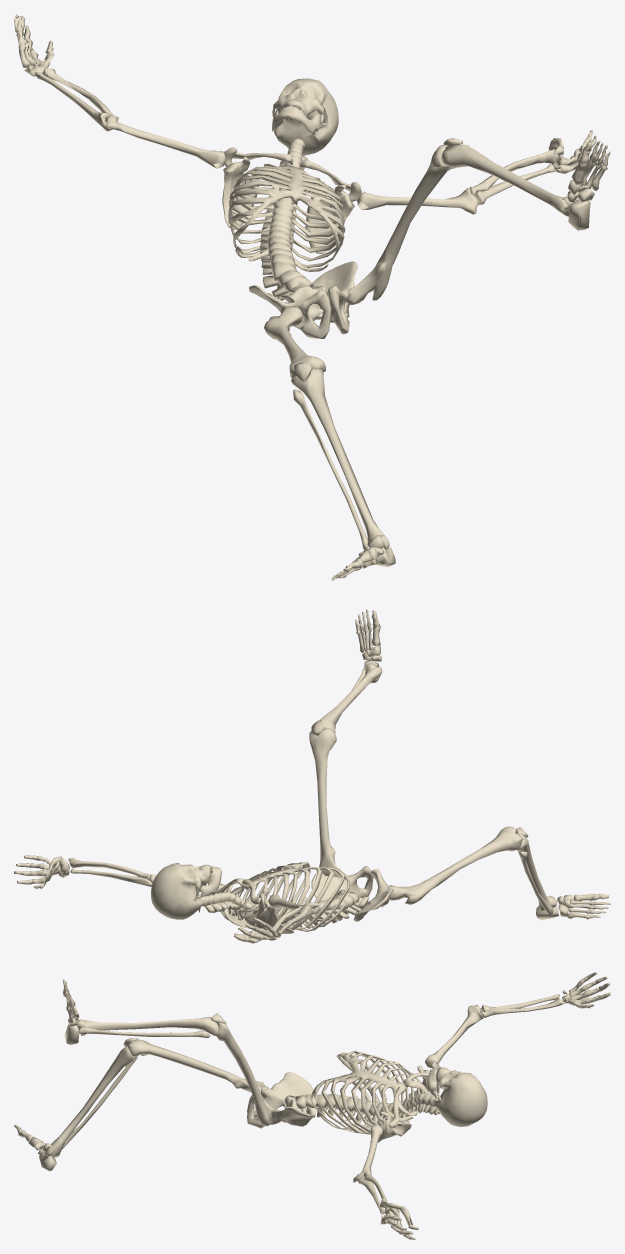
File: skeleton.obj
3 views of the same model, one above another, from view 1: azimuth 30°, elevation 25°; view 2: azimuth 150°, elevation 25°; view 3: azimuth 270°, elevation 25° (orthographic). The views are drawn at different scales.
Visible parts, largest first — view 1: chest:1, rShin:1, hip:1, head:1, lThigh:1, lFoot:1, lShin:1, abdomen:1, rThigh:1, rCollar:1, lCollar:1, lShldr:1 (+7 smaller); view 2: chest:1, head:1, rThigh:1, lThigh:1, hip:1, rFoot:1, lFoot:1, lShin:1, lHand:1, lForeArm:1, rShin:1, rCollar:1 (+4 smaller); view 3: chest:1, head:1, hip:1, lShin:1, rShin:1, rThigh:1, lThigh:1, rHand:1, rForeArm:1, abdomen:1, rShldr:1, lHand:1 (+6 smaller).
Boxes of the visible parts, x1,y1,x2,y2 form: chest:1: (228, 163, 345, 272); rShin:1: (291, 362, 389, 550); hip:1: (249, 261, 357, 338); head:1: (272, 78, 338, 155); lThigh:1: (346, 145, 455, 304); lFoot:1: (562, 140, 610, 230); lShin:1: (441, 138, 569, 214); abdomen:1: (261, 248, 312, 300); rThigh:1: (264, 306, 325, 378); rCollar:1: (222, 147, 293, 229); lCollar:1: (299, 159, 361, 253); lShldr:1: (357, 188, 479, 214); chest:1: (226, 862, 349, 931); head:1: (151, 863, 211, 919); rThigh:1: (388, 826, 523, 904); lThigh:1: (309, 728, 347, 877); hip:1: (311, 866, 393, 921); rFoot:1: (536, 893, 610, 920); lFoot:1: (355, 609, 381, 683); lShin:1: (311, 666, 382, 735); lHand:1: (14, 855, 69, 888); lForeArm:1: (68, 858, 152, 886); rShin:1: (515, 827, 553, 915); rCollar:1: (242, 879, 293, 933); chest:1: (310, 1050, 428, 1134); head:1: (435, 1067, 487, 1126); hip:1: (247, 1072, 314, 1128); lShin:1: (76, 1013, 225, 1037); rShin:1: (45, 1038, 138, 1157); rThigh:1: (127, 1039, 268, 1092); lThigh:1: (215, 1021, 271, 1126); rHand:1: (562, 972, 610, 1008); rForeArm:1: (480, 994, 564, 1017); abdomen:1: (295, 1094, 348, 1117); rShldr:1: (425, 1005, 483, 1068); lHand:1: (380, 1203, 418, 1239).
Size of the model in its own units: 0.543 by 0.3625 by 0.7325.
